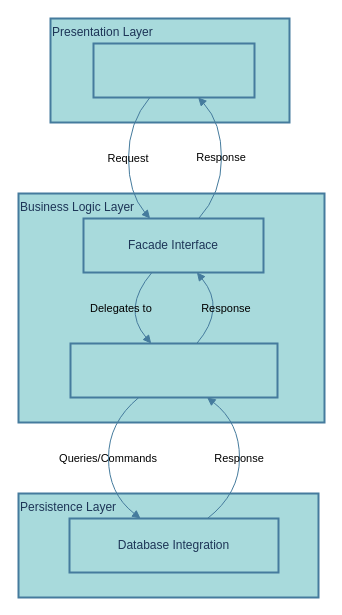
Some shapes in this 342 by 615 pixel diagram are drawn without their labels. Here are the shapes that lost their labels. From the top down, the centre of each, then its label:
At point 173,70: "API Endpoints".
At point 173,370: "Core Business Logic".
